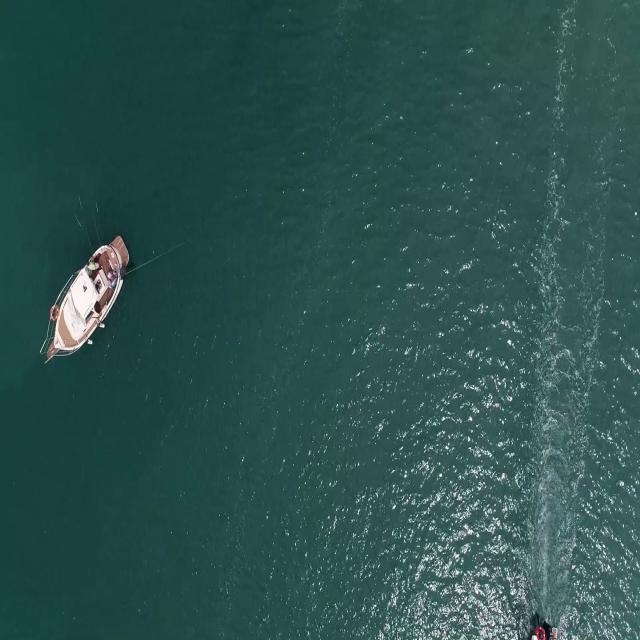boat: (48, 236, 134, 356)
life_buoy: (50, 300, 60, 323), (535, 624, 546, 640)
person: (86, 259, 104, 272), (108, 273, 119, 289)
